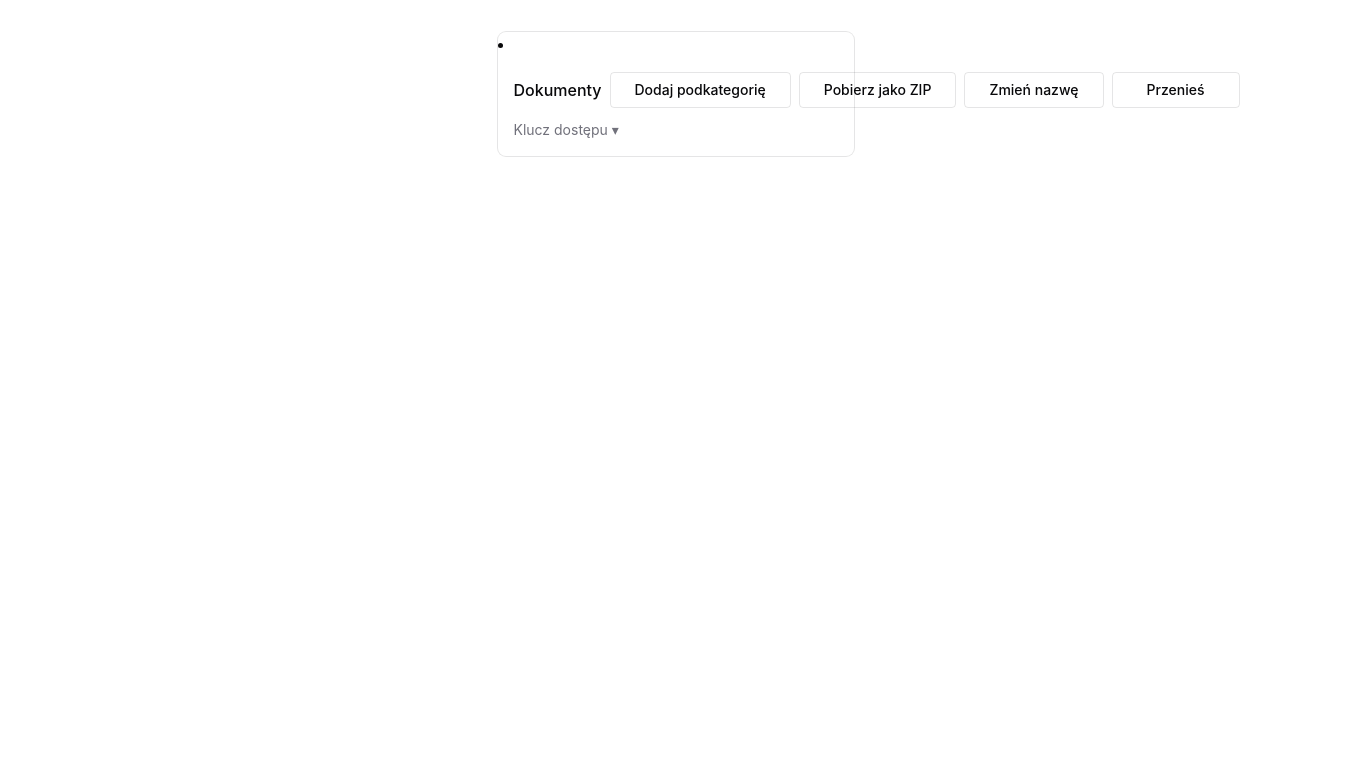
Test case: CategoryRow › moves the category to another root and closes the dialog on success
Click the button "Przenieś".
click(1176, 90)  # box 1112,72 -> 1240,108
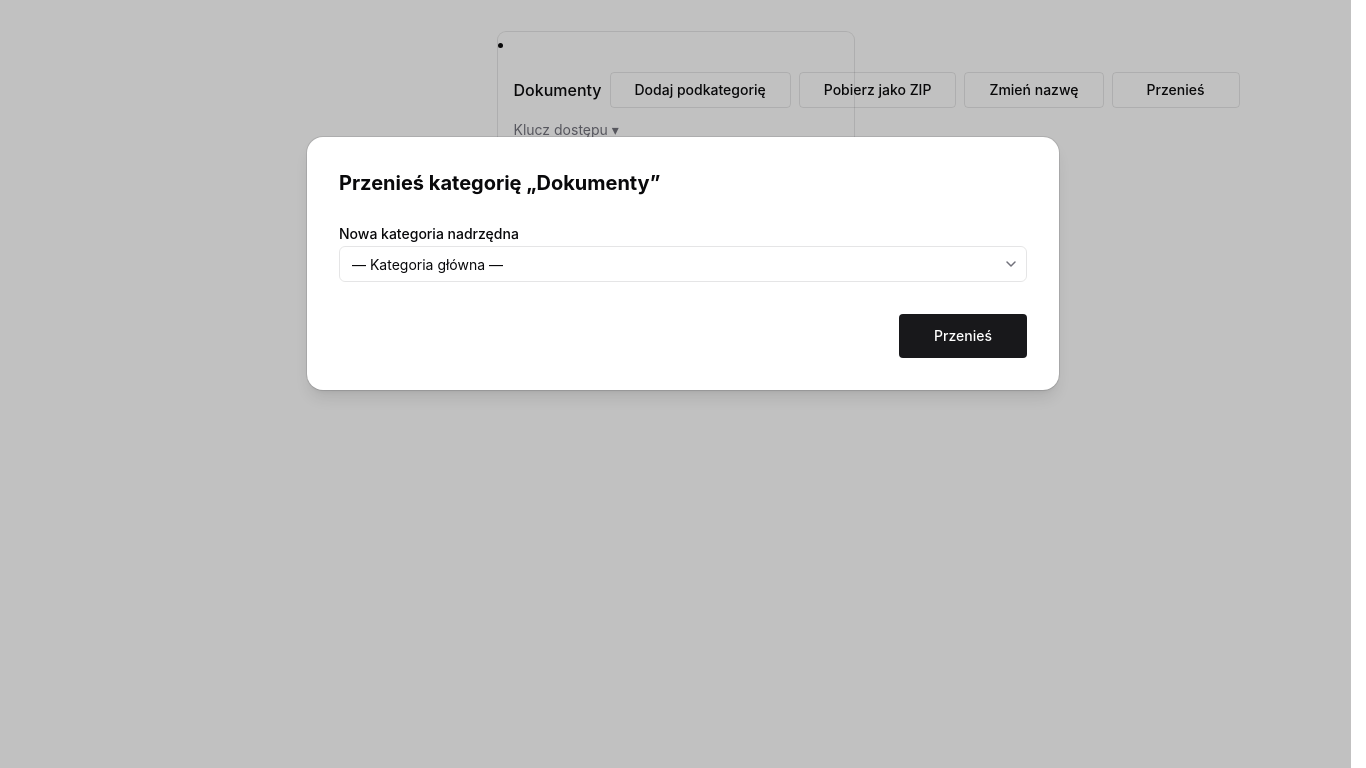
Select "Paragony" in the dropdown labelled "Nowa kategoria nadrzędna" at (683, 264), box 339,246 -> 1027,282
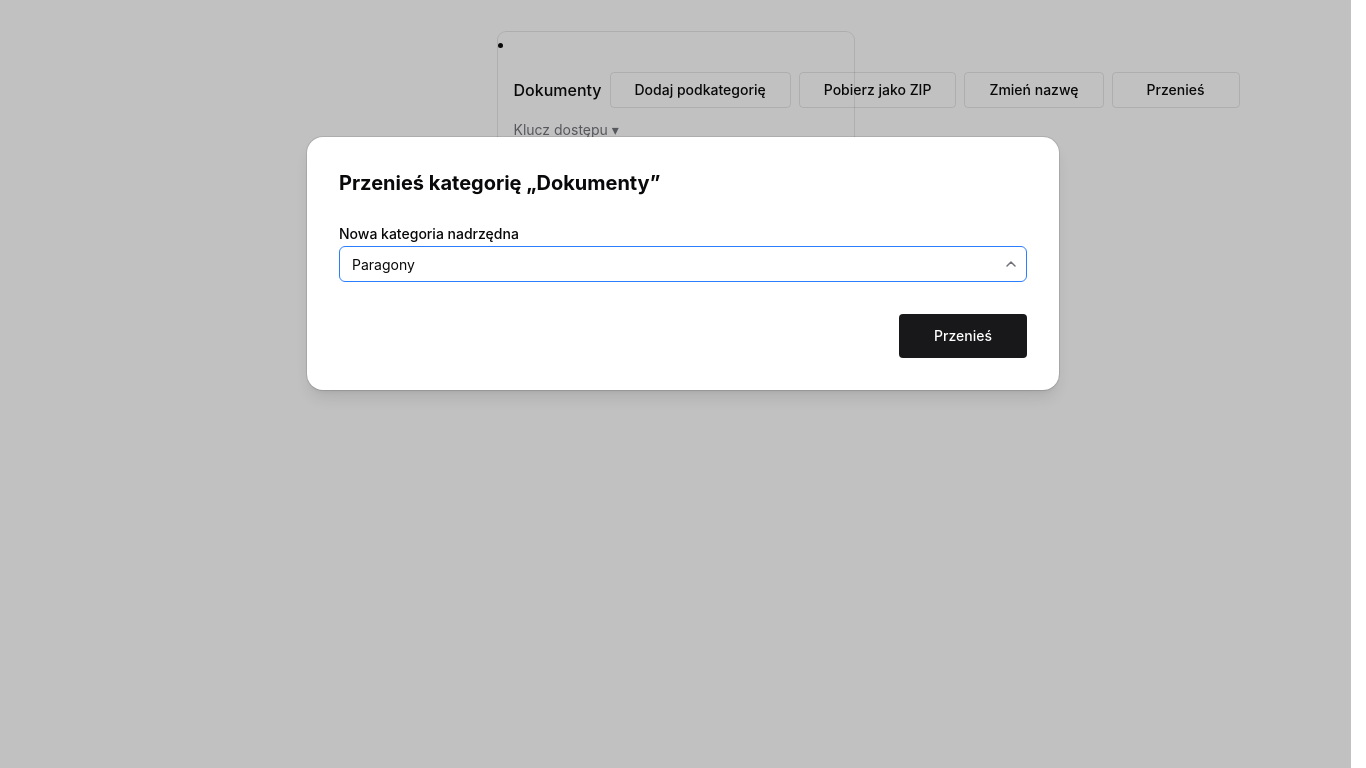
Click the button "Przenieś".
click(963, 336)  # box 899,314 -> 1027,358
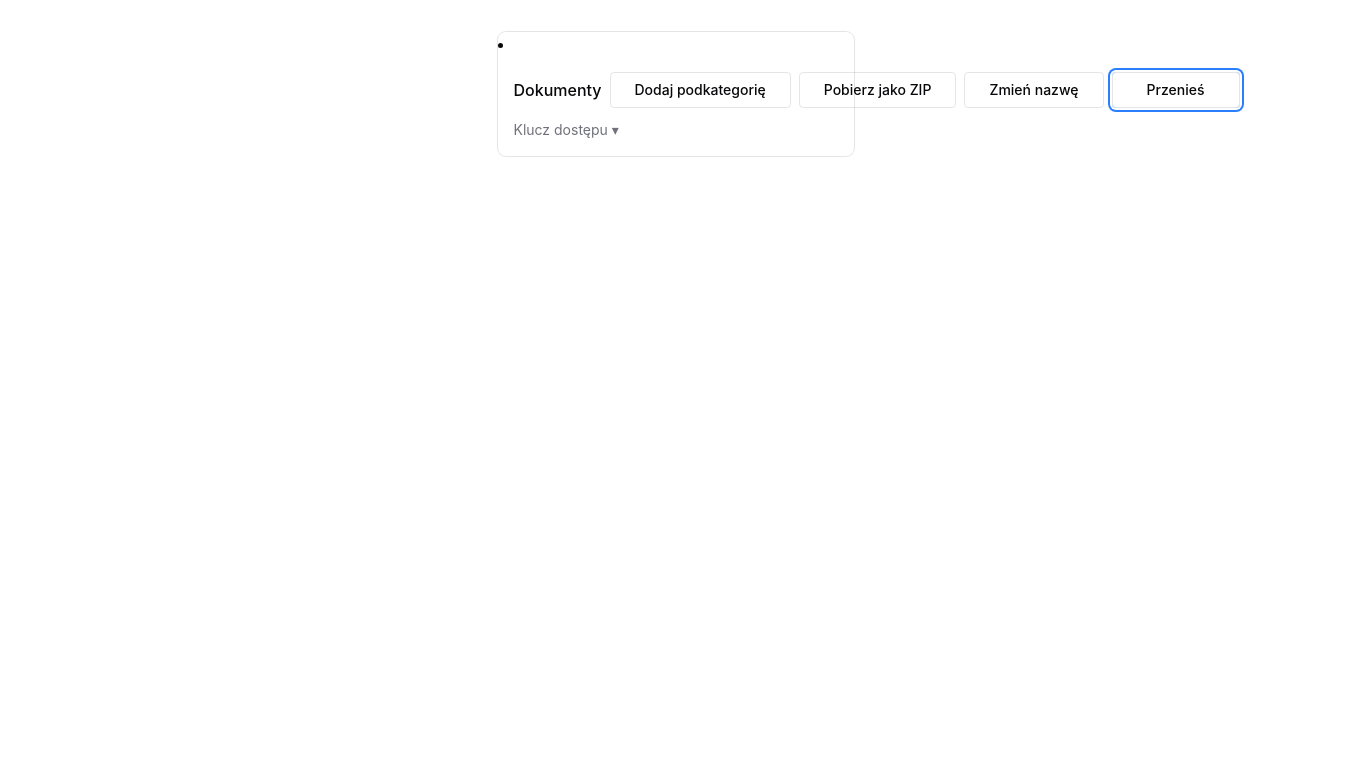
Result: the label labelled "Nowa kategoria nadrzędna" is gone
